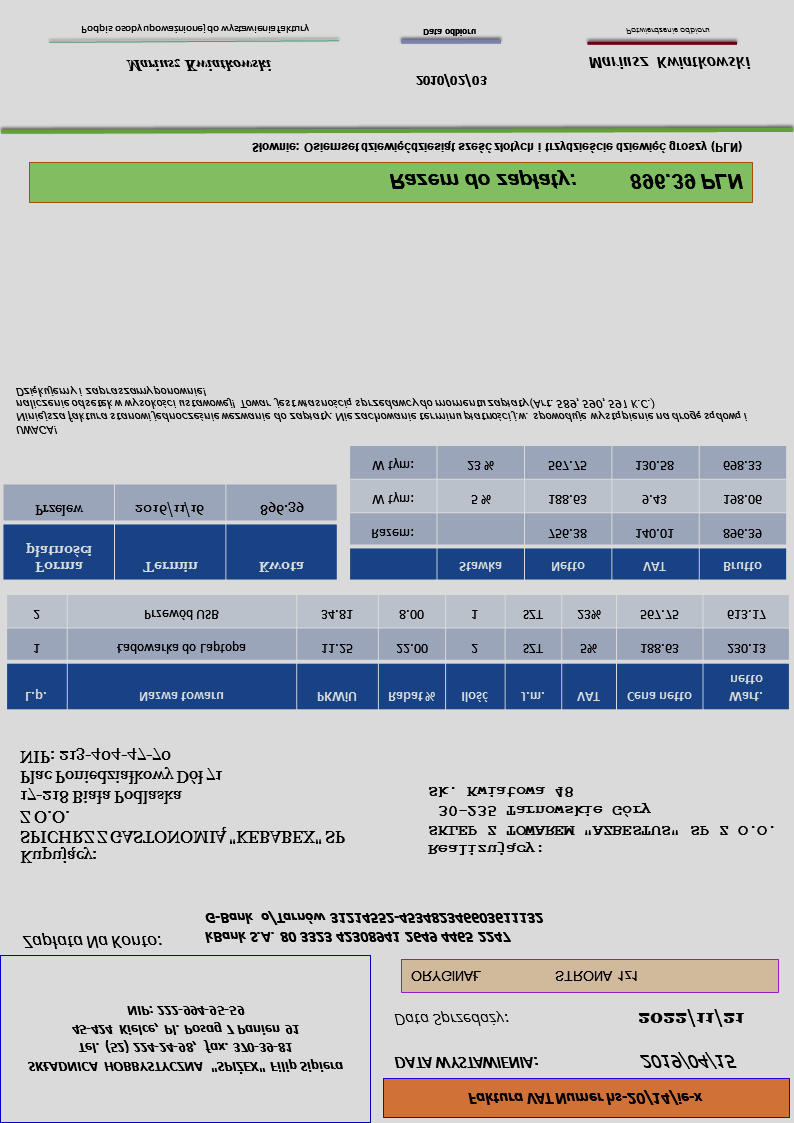Table: (4, 591, 792, 712), (348, 445, 786, 583), (2, 483, 337, 582)
TextBox: (12, 383, 752, 440), (14, 746, 351, 870), (423, 781, 775, 860), (26, 1003, 345, 1077), (201, 910, 546, 948), (249, 136, 747, 159), (386, 167, 747, 197), (465, 1088, 703, 1109), (77, 19, 312, 40), (408, 966, 642, 987), (586, 51, 756, 73), (123, 55, 274, 78), (17, 932, 165, 953), (392, 1054, 540, 1074), (391, 1008, 510, 1031), (634, 1005, 745, 1029), (636, 1051, 738, 1073), (623, 21, 712, 40), (412, 70, 488, 91), (419, 26, 479, 40)
